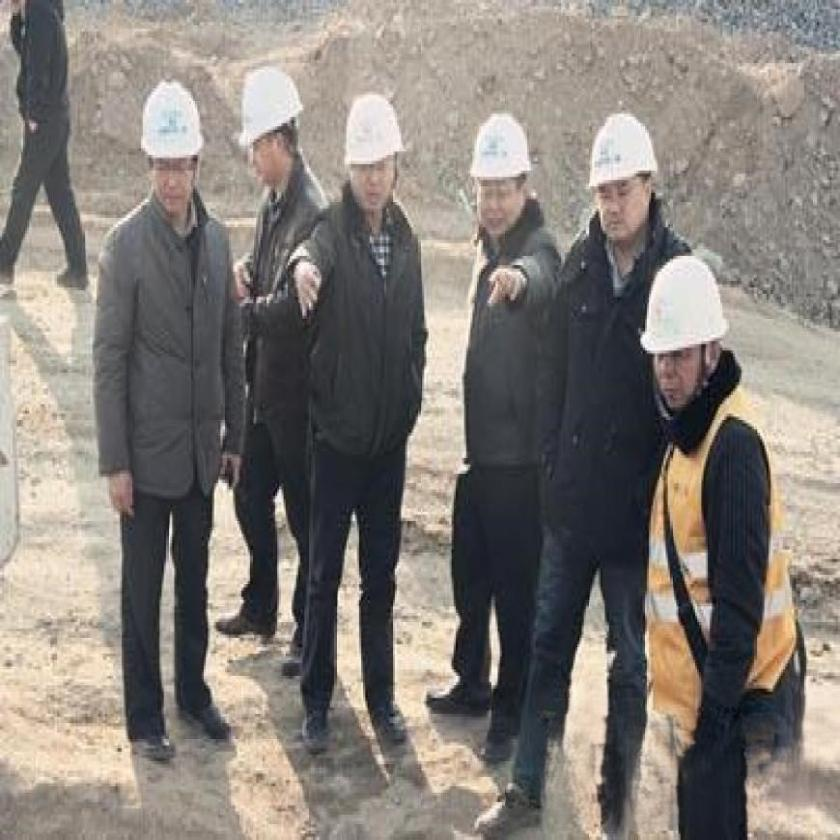Con_casco: (644, 259, 736, 416), (134, 58, 214, 217), (587, 105, 660, 264), (466, 100, 541, 247), (240, 43, 299, 197), (338, 86, 401, 218)
